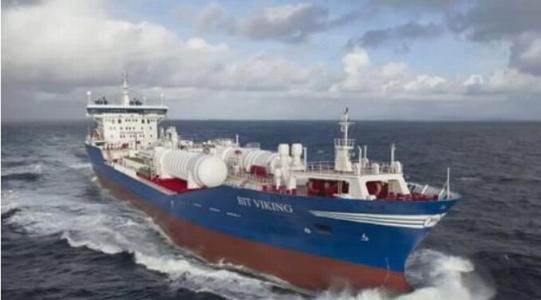Cargoship: (78, 67, 466, 293)
